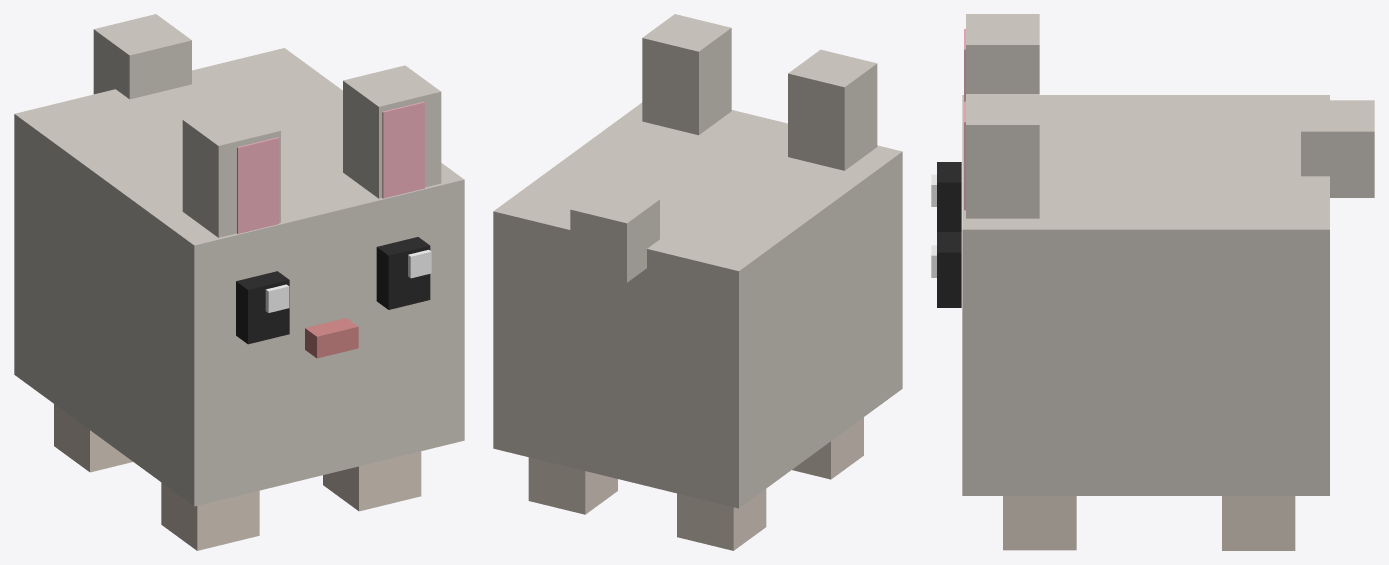
Rendered from bunny.fbx.
3 views of the same model, side by side, from view 1: azimuth 30°, elevation 25°; view 2: azimuth 150°, elevation 25°; view 3: azimuth 270°, elevation 25° (orthographic). The views are drawn at different scales.
Visible parts, largest first — view 1: Cuerpo, Oreja-2, Oreja-1, Cola, Pata-3, Pata-4, Oreja-1-dins, Oreja-1-dins.001, Ojo1, Ojo2, Pata-2, Nariz (+2 smaller); view 2: Cuerpo, Oreja-1, Oreja-2, Cola, Pata-2, Pata-1, Pata-3; view 3: Cuerpo, Oreja-1, Cola, Oreja-2, Pata-1, Pata-4, Ojo1, Ojo2.
Part boxes in pixels (left/top/right/bottom): Cuerpo: left=14, top=48, right=464, bottom=506; Oreja-2: left=182, top=104, right=280, bottom=237; Oreja-1: left=343, top=65, right=441, bottom=198; Cola: left=93, top=14, right=191, bottom=99; Pata-3: left=161, top=482, right=259, bottom=550; Pata-4: left=323, top=451, right=421, bottom=511; Oreja-1-dins: left=382, top=101, right=424, bottom=198; Oreja-1-dins.001: left=237, top=137, right=279, bottom=233; Ojo1: left=376, top=237, right=430, bottom=309; Ojo2: left=236, top=271, right=289, bottom=344; Pata-2: left=54, top=404, right=132, bottom=472; Nariz: left=305, top=318, right=358, bottom=358; Cuerpo: left=493, top=102, right=902, bottom=508; Oreja-1: left=642, top=14, right=731, bottom=135; Oreja-2: left=788, top=49, right=877, bottom=170; Cola: left=570, top=185, right=659, bottom=282; Pata-2: left=677, top=489, right=766, bottom=550; Pata-1: left=528, top=457, right=617, bottom=514; Pata-3: left=792, top=417, right=863, bottom=479; Cuerpo: left=962, top=95, right=1329, bottom=495; Oreja-1: left=966, top=94, right=1039, bottom=218; Cola: left=1301, top=100, right=1374, bottom=197; Oreja-2: left=966, top=14, right=1039, bottom=93; Pata-1: left=1222, top=496, right=1295, bottom=550; Pata-4: left=1003, top=496, right=1076, bottom=550; Ojo1: left=937, top=232, right=961, bottom=307; Ojo2: left=937, top=162, right=961, bottom=231.
Bounding box in the file's own units: 260 × 384 × 362.
